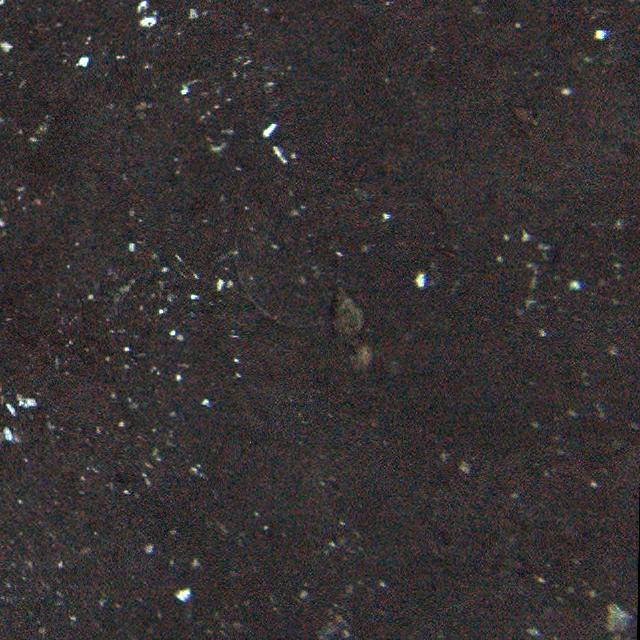whelk: (330, 282, 364, 342)
